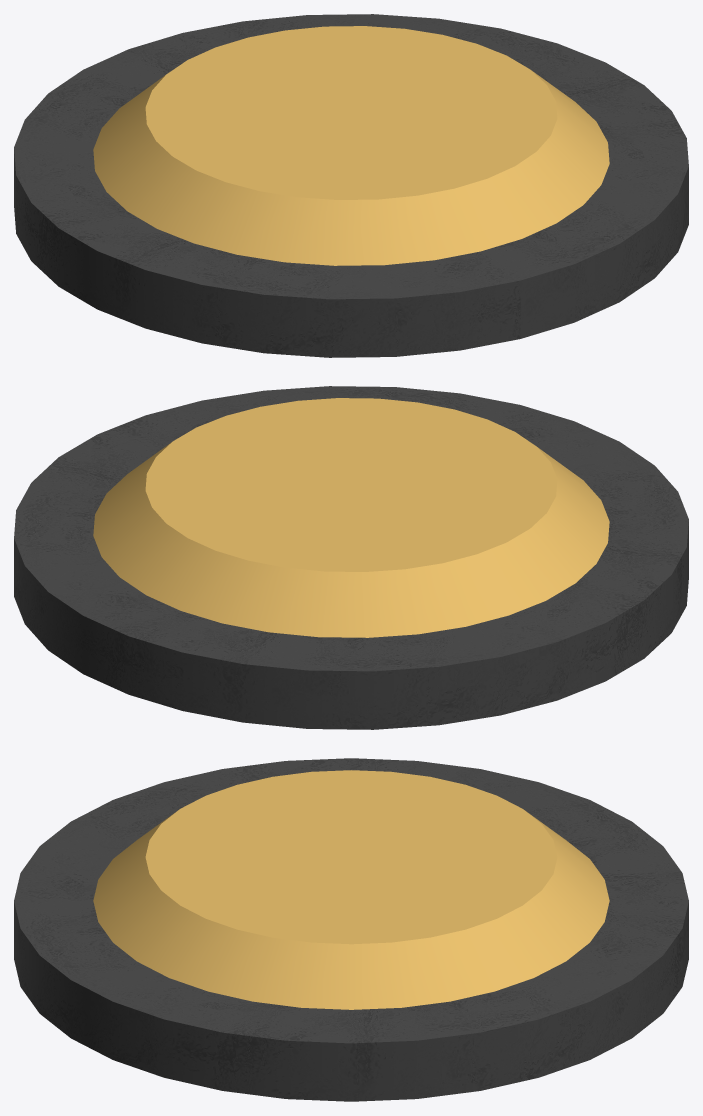
File: NB_Wind_trap_Bottom.fbx
3 views of the same model, one above another, from view 1: azimuth 30°, elevation 25°; view 2: azimuth 150°, elevation 25°; view 3: azimuth 270°, elevation 25° (orthographic).
Parts seen in each view (by area): view 1: NB_Wind_trap_Bottom; view 2: NB_Wind_trap_Bottom; view 3: NB_Wind_trap_Bottom.
Boxes of the visible parts, box(x1,y1,x2,y2) form: NB_Wind_trap_Bottom: box(14, 14, 688, 357); NB_Wind_trap_Bottom: box(14, 386, 688, 729); NB_Wind_trap_Bottom: box(14, 758, 688, 1101).
Size of the model in its own units: 300 by 50 by 300.
